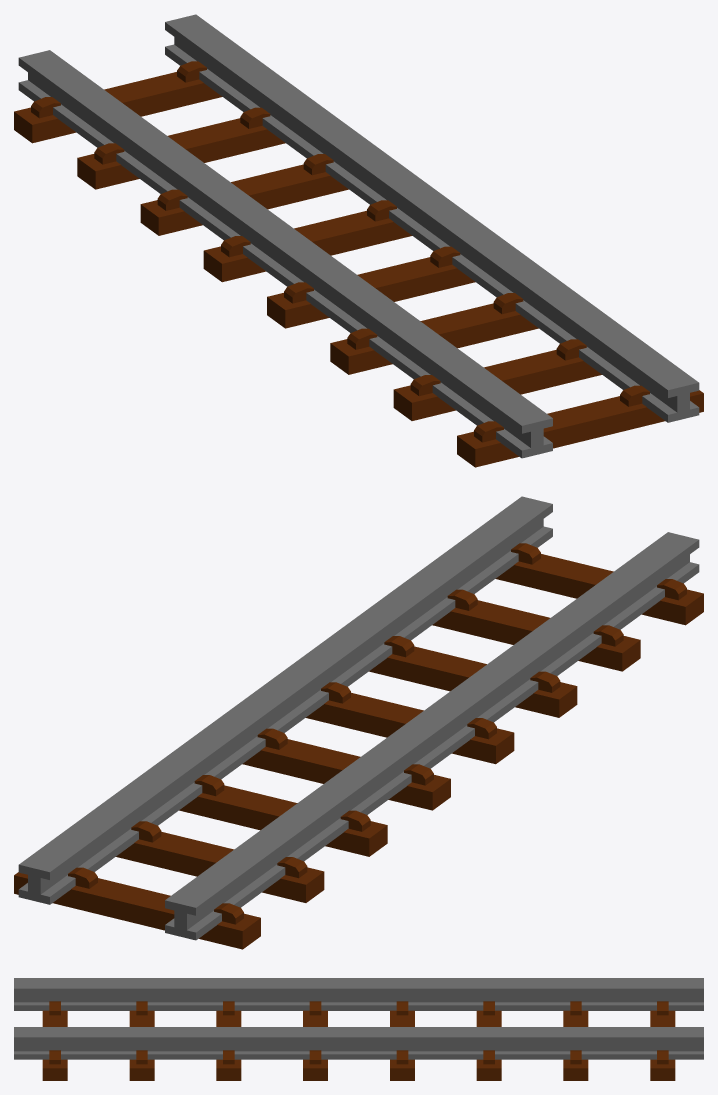
The model's file is Train Track.fbx.
3 views of the same model, one above another, from view 1: azimuth 30°, elevation 25°; view 2: azimuth 150°, elevation 25°; view 3: azimuth 270°, elevation 25° (orthographic). The views are drawn at different scales.
Parts seen in each view (by area): view 1: Cube.009, Cube.008, Cube.007, Cube.003, Cube, Cube.005, Cube.006, Cube.001, Cube.004, Cube.002; view 2: Cube.009, Cube.008, Cube.002, Cube.004, Cube.005, Cube, Cube.001, Cube.006, Cube.003, Cube.007; view 3: Cube.009, Cube.008, Cube.001, Cube.006, Cube, Cube.002, Cube.005, Cube.007, Cube.003, Cube.004, Cube.021, Cube.022 (+2 smaller).
Boxes of the visible parts, x1,y1,x2,y2 form: Cube.009: (165, 14, 699, 422); Cube.008: (18, 50, 552, 458); Cube.007: (457, 390, 703, 467); Cube.003: (203, 210, 411, 282); Cube: (140, 164, 348, 235); Cube.005: (330, 303, 538, 374); Cube.006: (393, 349, 601, 420); Cube.001: (77, 118, 285, 189); Cube.004: (267, 257, 475, 328); Cube.002: (14, 72, 222, 143); Cube.009: (18, 496, 552, 904); Cube.008: (165, 532, 699, 940); Cube.002: (14, 872, 260, 949); Cube.004: (306, 692, 514, 764); Cube.005: (369, 646, 577, 717); Cube: (179, 785, 387, 856); Cube.001: (116, 831, 324, 902); Cube.006: (432, 600, 640, 671); Cube.003: (242, 739, 450, 810); Cube.007: (495, 554, 703, 625); Cube.009: (14, 1027, 703, 1059); Cube.008: (14, 978, 703, 1010); Cube.001: (563, 1010, 588, 1080); Cube.006: (129, 1010, 154, 1080); Cube: (476, 1010, 501, 1080); Cube.002: (650, 1010, 675, 1080); Cube.005: (216, 1010, 241, 1080); Cube.007: (42, 1010, 67, 1080); Cube.003: (390, 1010, 414, 1080); Cube.004: (303, 1010, 327, 1080); Cube.021: (396, 1001, 408, 1015); Cube.022: (309, 1001, 321, 1015).
Bounding box in the file's own units: 626 × 133 × 2385.
